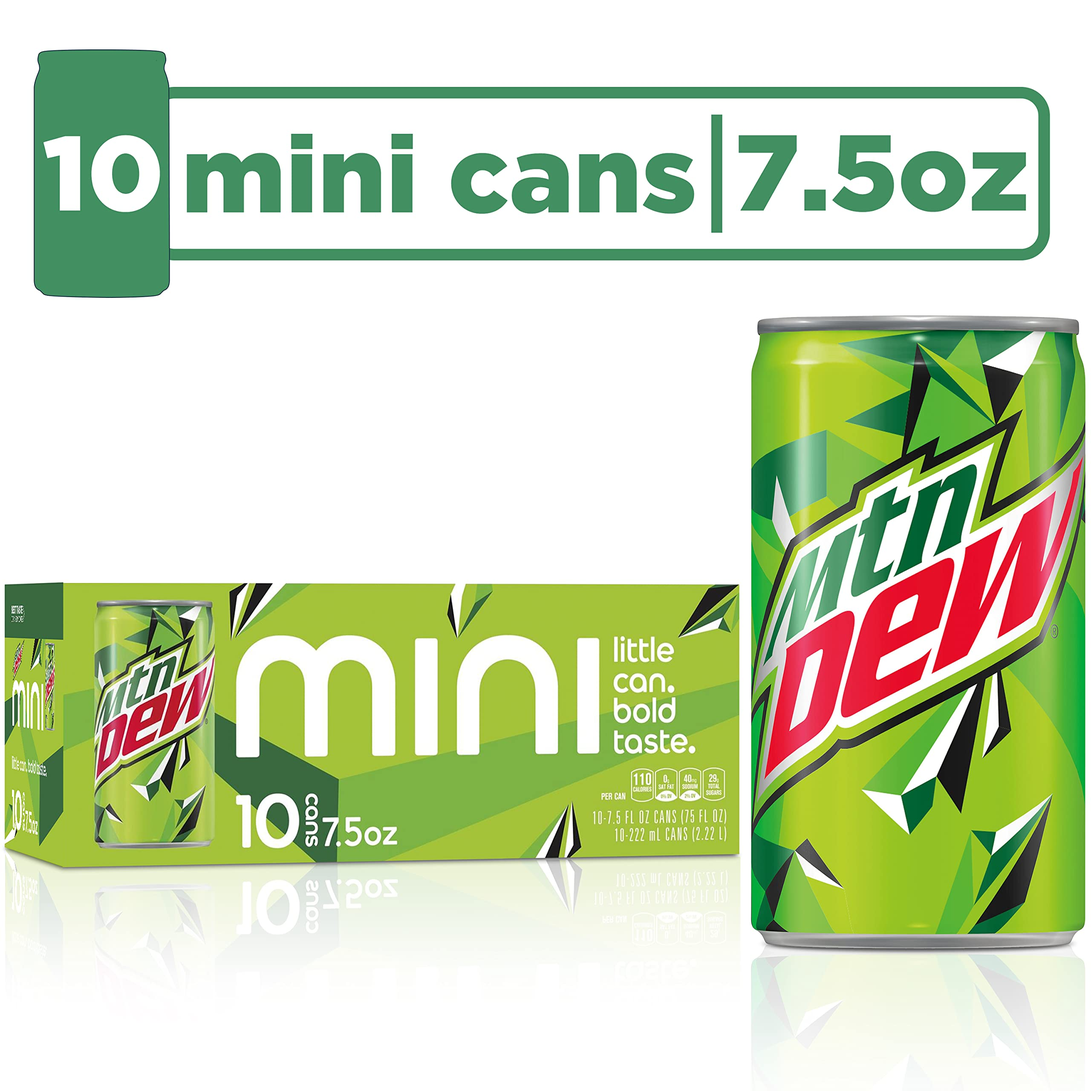cylinder: (750, 315, 1086, 952), (94, 600, 215, 849)
